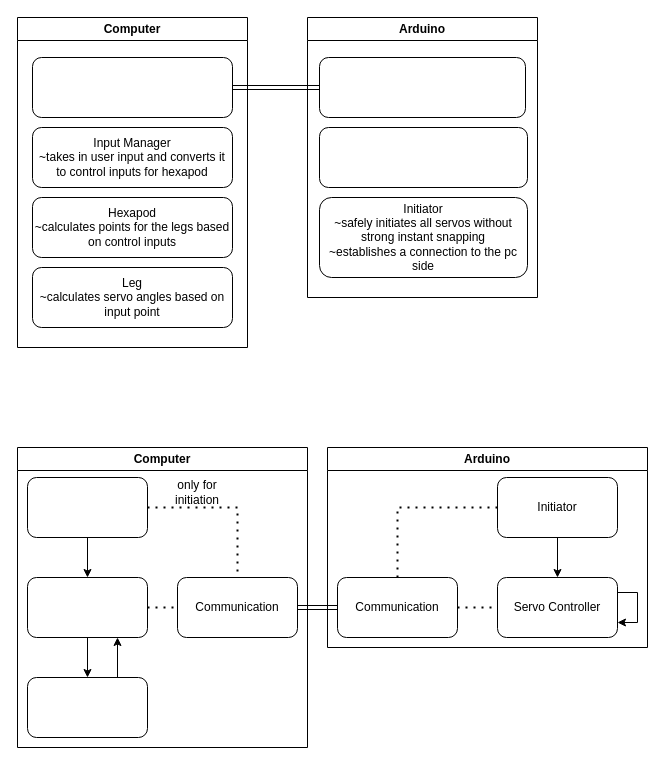
Some shapes in this 665 by 765 pixel diagram are drawn without their labels. Here are the shapes that lost their labels. From the top down, the centre of each, then its label:
point (132, 87): Communication ~shares the servo angles with the arduino
point (422, 87): Communication ~receives angles for the servos
point (423, 157): Servo Controller ~sets the connected servo angles
point (87, 507): Input Manager
point (87, 607): Hexapod
point (87, 707): 6x Leg
